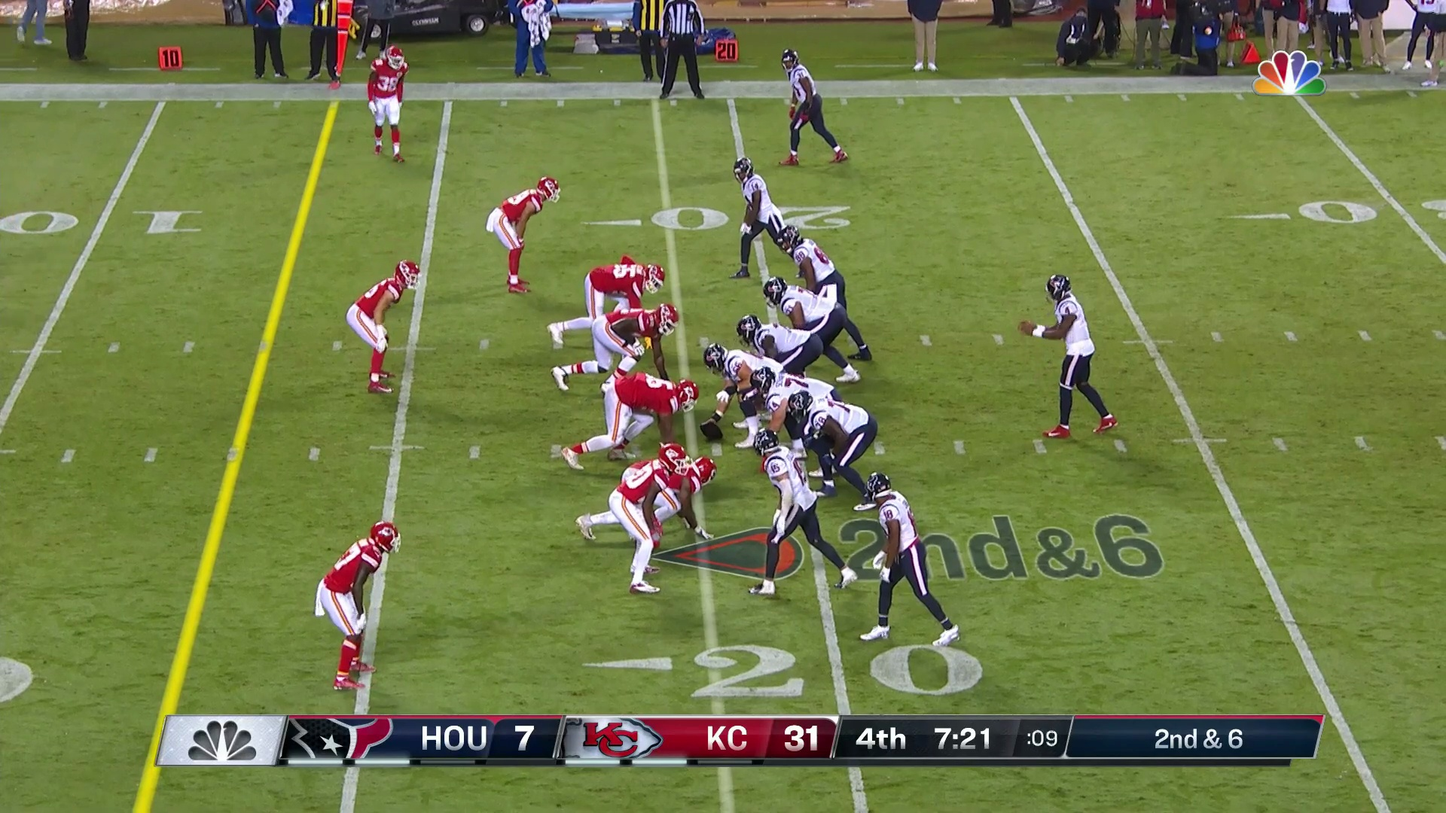Player: (610, 443, 690, 591), (764, 277, 847, 374), (598, 371, 696, 449), (801, 392, 877, 481), (582, 302, 673, 374), (755, 367, 817, 443), (742, 319, 824, 376), (368, 44, 407, 160)
